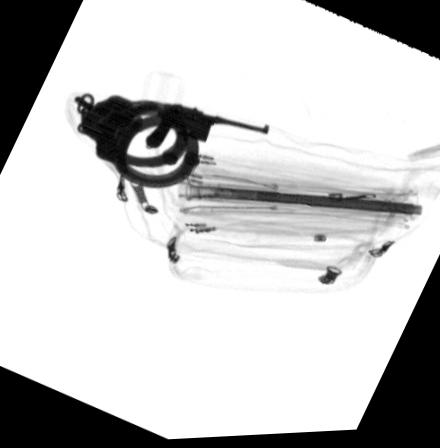Gun: (143, 103, 267, 151)
HandCuffs: (73, 94, 200, 192)
